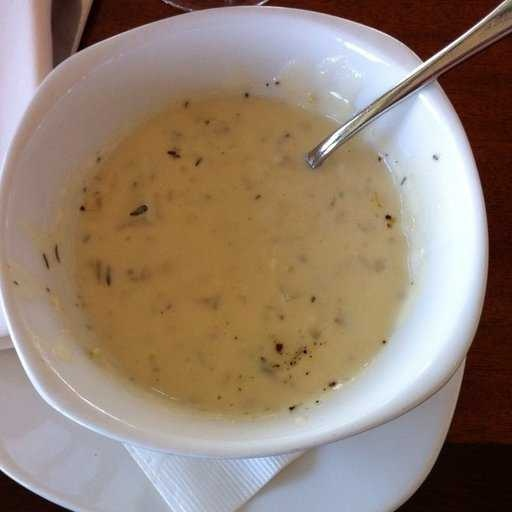soup: (36, 30, 440, 430)
